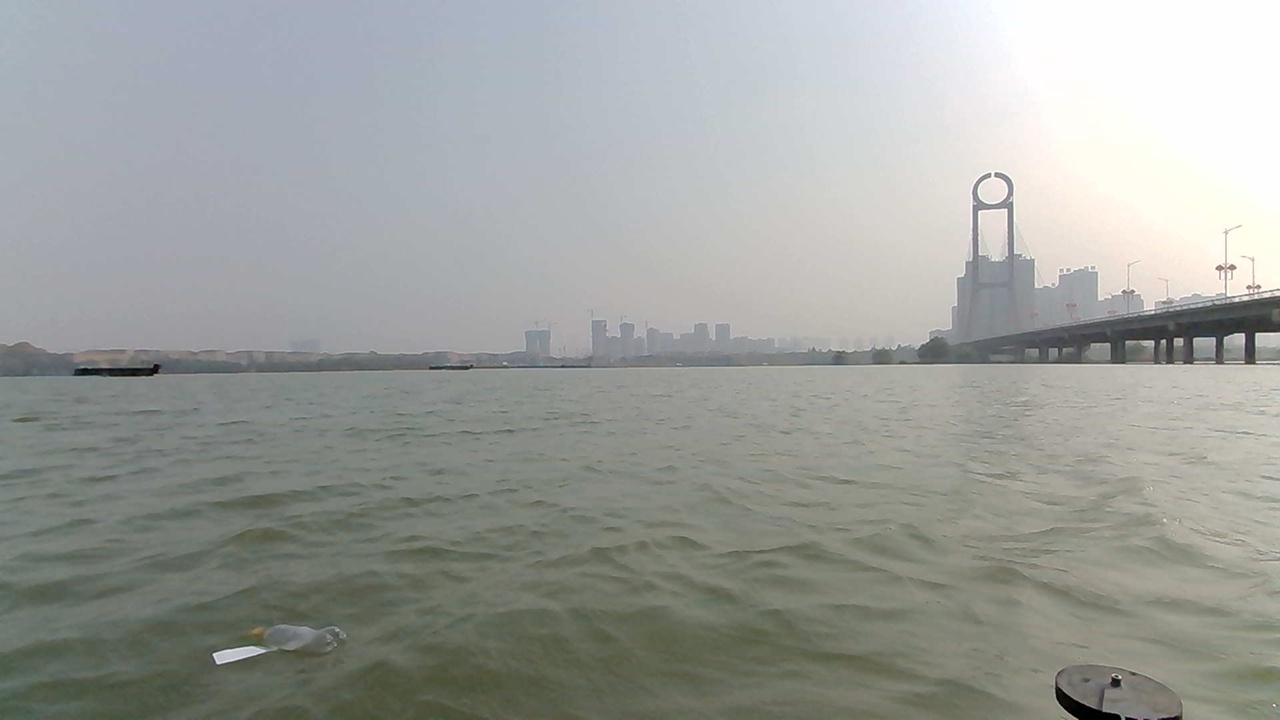bottle: (198, 611, 348, 679)
